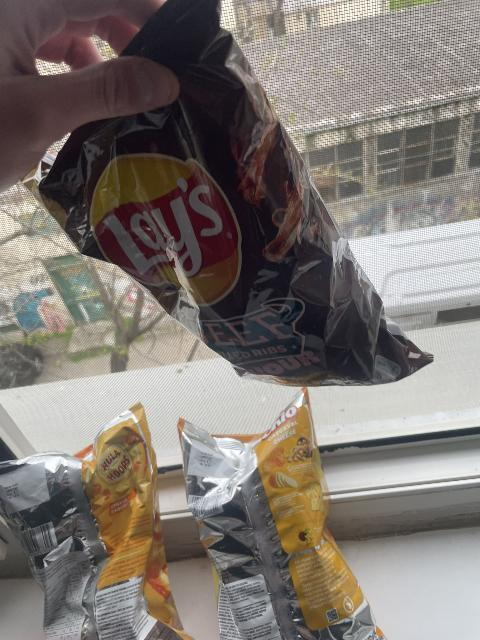Chio Cascaval 125g: (180, 392, 380, 640)
Chio Hula Hoops Cheese 70g: (0, 406, 196, 640)
Lays Beef Grilled Ribs 125g: (35, 7, 431, 387)
